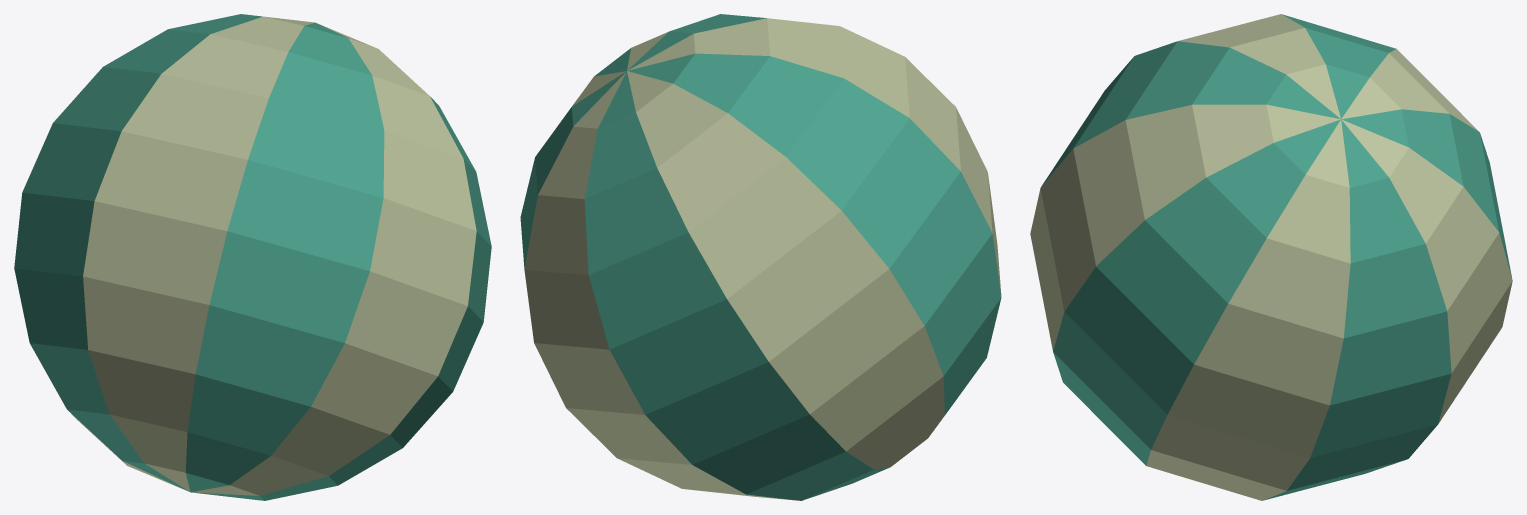
Rendered from Ball_5.fbx.
The picture shows the model from 3 angles, left to right: view 1: azimuth 30°, elevation 25°; view 2: azimuth 150°, elevation 25°; view 3: azimuth 270°, elevation 25°; orthographic projection.
Visible parts, largest first — view 1: Ball_5; view 2: Ball_5; view 3: Ball_5.
Part boxes in pixels (x1,y1,x2,y2): Ball_5: (14, 14, 491, 500); Ball_5: (520, 14, 1001, 500); Ball_5: (1030, 14, 1512, 500).
Bounding box in the file's own units: 16.94 × 17.55 × 17.42.
